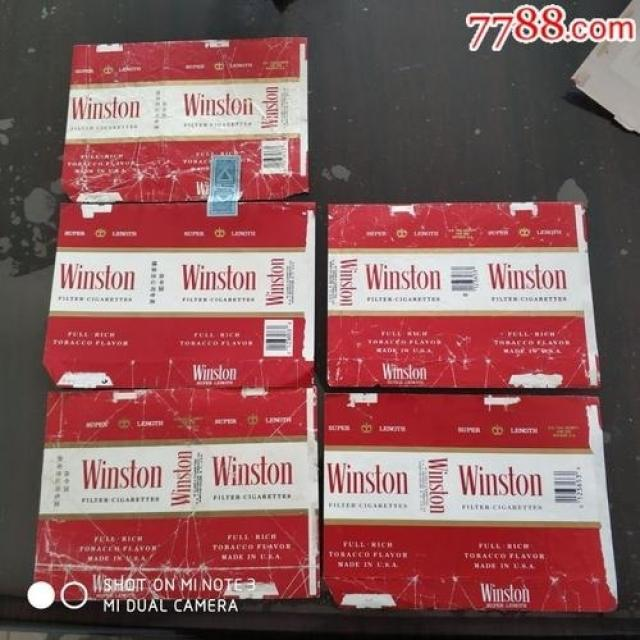box: (323, 393, 620, 612), (33, 388, 321, 602), (326, 201, 602, 389), (42, 202, 317, 388), (59, 35, 308, 202)
